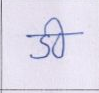i_matra: (47, 17, 68, 59)
